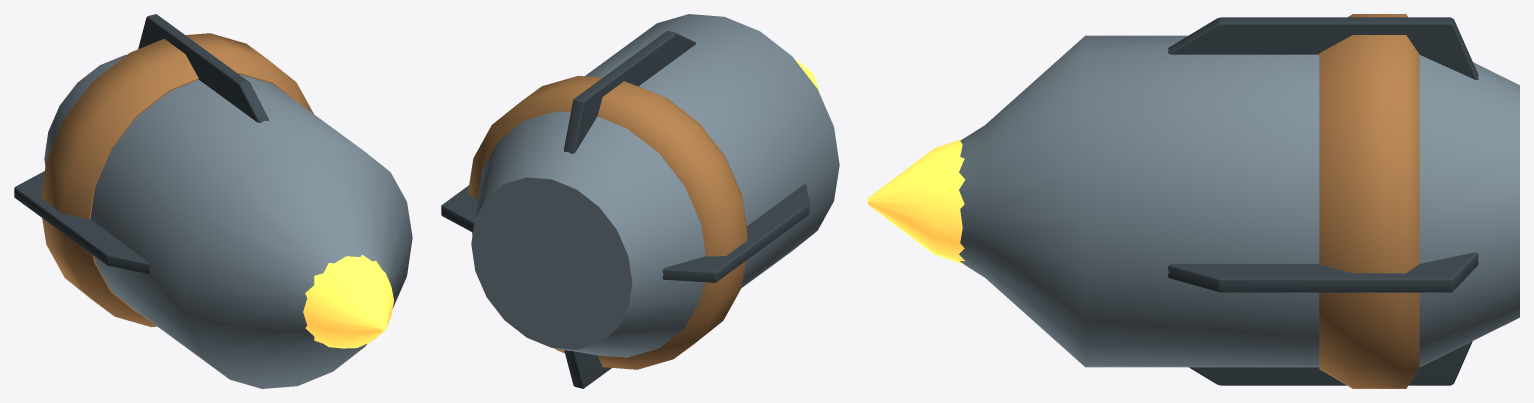
File: zb_cannon.glb
3 views of the same model, side by side, from view 1: azimuth 30°, elevation 25°; view 2: azimuth 150°, elevation 25°; view 3: azimuth 270°, elevation 25° (orthographic). The views are drawn at different scales.
Visible parts, largest first — view 1: zb_cannon / Machined titanium, zb_cannon / Copper driving band, zb_cannon / Carbon ceramic, zb_cannon / Tracer ember; view 2: zb_cannon / Machined titanium, zb_cannon / Copper driving band, zb_cannon / Carbon ceramic; view 3: zb_cannon / Machined titanium, zb_cannon / Copper driving band, zb_cannon / Carbon ceramic, zb_cannon / Tracer ember.
Part boxes in pixels (x1=…): zb_cannon / Machined titanium: x1=44, y1=54, x2=412, y2=388; zb_cannon / Copper driving band: x1=41, y1=33, x2=313, y2=327; zb_cannon / Carbon ceramic: x1=14, y1=14, x2=268, y2=274; zb_cannon / Tracer ember: x1=303, y1=254, x2=394, y2=348; zb_cannon / Machined titanium: x1=471, y1=14, x2=839, y2=357; zb_cannon / Copper driving band: x1=468, y1=75, x2=747, y2=369; zb_cannon / Carbon ceramic: x1=441, y1=31, x2=809, y2=388; zb_cannon / Machined titanium: x1=959, y1=35, x2=1519, y2=367; zb_cannon / Copper driving band: x1=1319, y1=14, x2=1419, y2=388; zb_cannon / Carbon ceramic: x1=1167, y1=17, x2=1478, y2=385; zb_cannon / Tracer ember: x1=868, y1=139, x2=965, y2=264.
Size of the model in its own units: 12 by 12 by 19.5.
